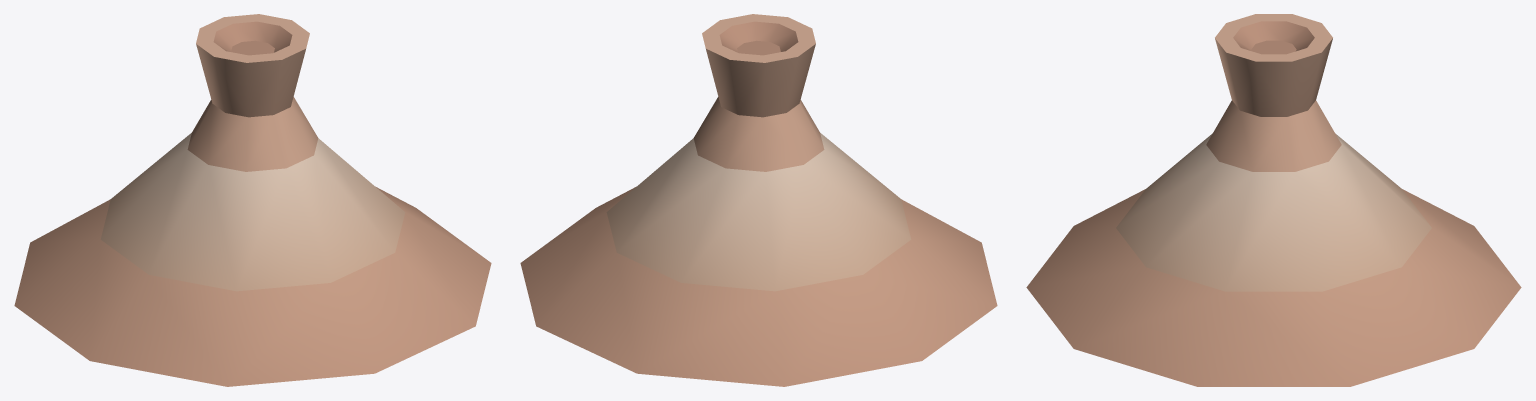
The model's file is tajine-lid.glb.
The picture shows the model from 3 angles, left to right: view 1: azimuth 30°, elevation 25°; view 2: azimuth 150°, elevation 25°; view 3: azimuth 270°, elevation 25°; orthographic projection.
Parts seen in each view (by area): view 1: tajine-lid; view 2: tajine-lid; view 3: tajine-lid.
Boxes of the visible parts, bbox=[...] form: tajine-lid: bbox=[14, 14, 491, 386]; tajine-lid: bbox=[520, 14, 997, 386]; tajine-lid: bbox=[1026, 14, 1521, 386].
Size of the model in its own units: 0.7555 by 0.442 by 0.7943.
